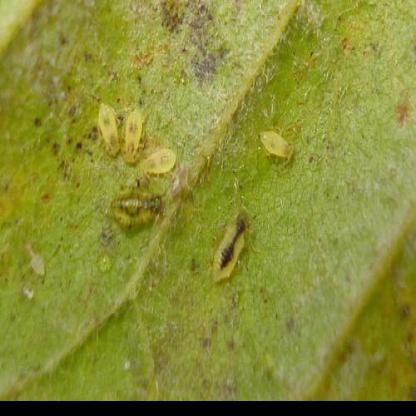aphid: (210, 180, 256, 287), (112, 177, 169, 239), (119, 105, 146, 174), (259, 124, 295, 170), (95, 102, 124, 158), (144, 146, 184, 181)
